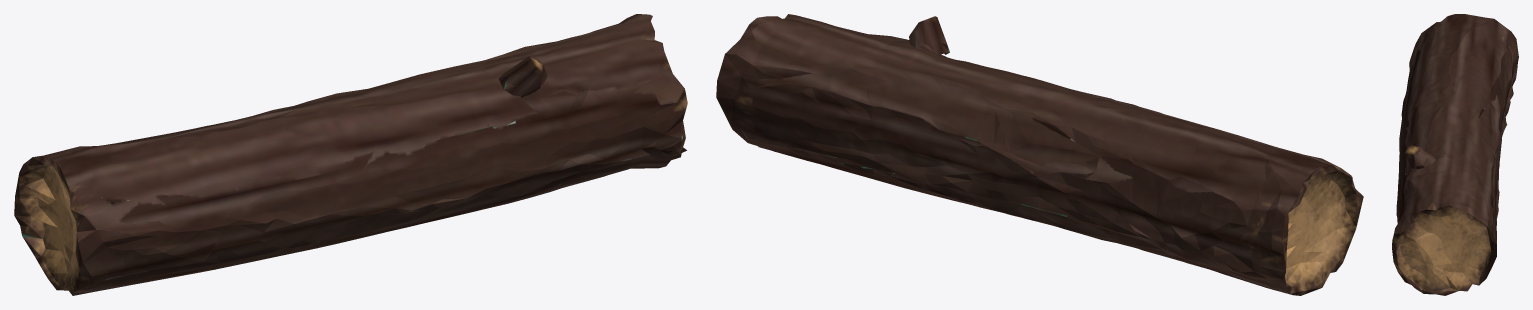
Rendered from Log.fbx.
3 views of the same model, side by side, from view 1: azimuth 30°, elevation 25°; view 2: azimuth 150°, elevation 25°; view 3: azimuth 270°, elevation 25° (orthographic). The views are drawn at different scales.
Visible parts, largest first — view 1: tronco2; view 2: tronco2; view 3: tronco2.
Boxes of the visible parts, x1,y1,x2,y2 form: tronco2: (14, 14, 687, 295); tronco2: (716, 14, 1363, 295); tronco2: (1392, 14, 1518, 295).
Bounding box in the file's own units: 189 × 44.91 × 48.66.
